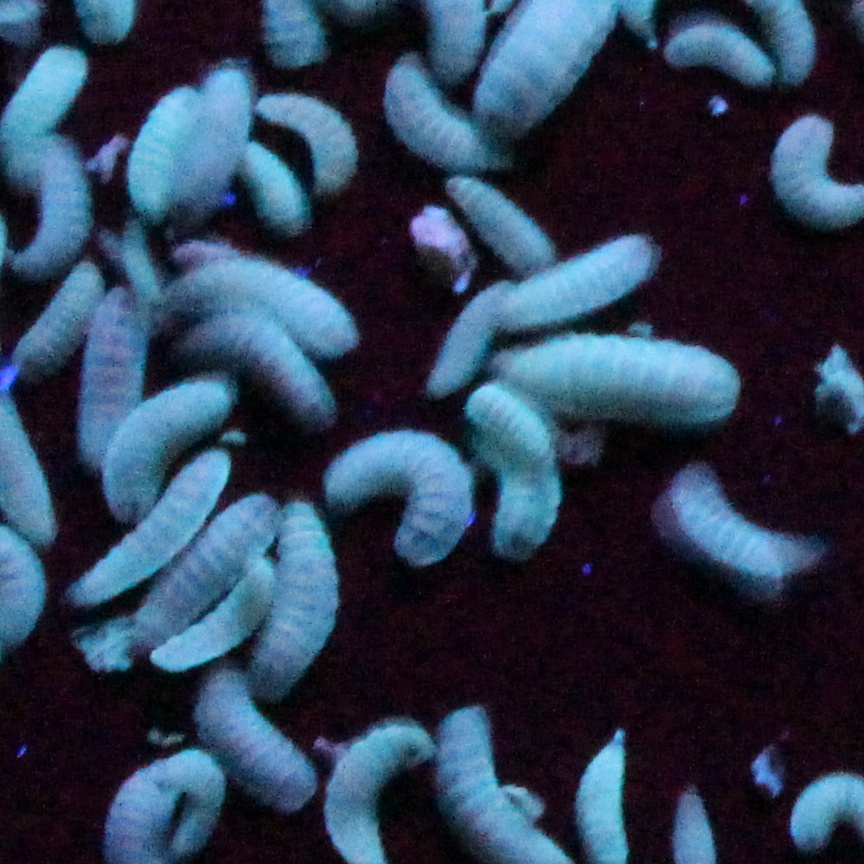larve: (99, 496, 282, 669), (494, 333, 738, 430), (72, 455, 233, 599), (331, 425, 475, 569), (177, 257, 357, 367), (182, 306, 340, 428), (109, 374, 226, 528), (675, 464, 826, 579), (262, 501, 343, 711), (192, 669, 316, 806), (506, 233, 657, 328), (479, 386, 560, 555), (377, 57, 501, 167), (160, 564, 275, 672), (14, 138, 96, 279), (6, 274, 106, 389), (84, 289, 148, 457), (179, 69, 255, 208), (253, 94, 357, 194), (445, 177, 553, 272), (426, 284, 514, 399), (131, 94, 199, 223), (233, 142, 309, 240), (667, 30, 779, 91), (177, 750, 221, 860)
